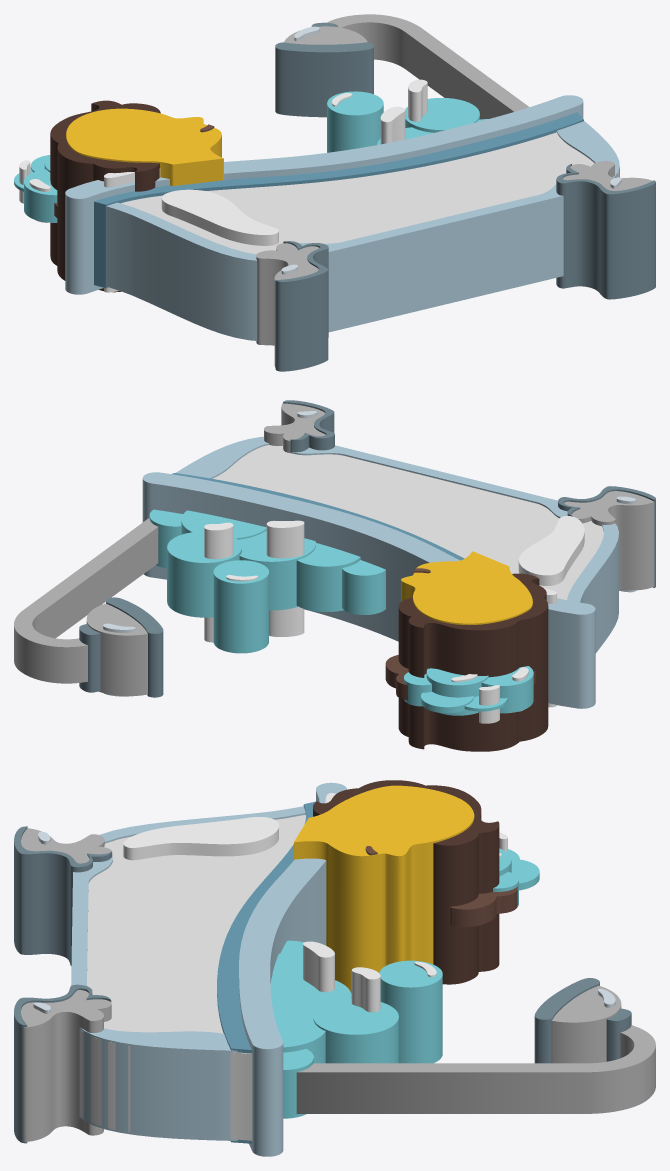
The model's file is emoji_u1f6c0.glb.
3 views of the same model, one above another, from view 1: azimuth 30°, elevation 25°; view 2: azimuth 150°, elevation 25°; view 3: azimuth 270°, elevation 25° (orthographic). The views are drawn at different scales.
Visible parts, largest first — view 1: emoji_u1f6c0; view 2: emoji_u1f6c0; view 3: emoji_u1f6c0.
Boxes of the visible parts, x1,y1,x2,y2 form: emoji_u1f6c0: (14,14,655,371); emoji_u1f6c0: (14,400,655,751); emoji_u1f6c0: (14,780,655,1156).
Bounding box in the file's own units: 0.0329 × 0.0084 × 0.0335.
